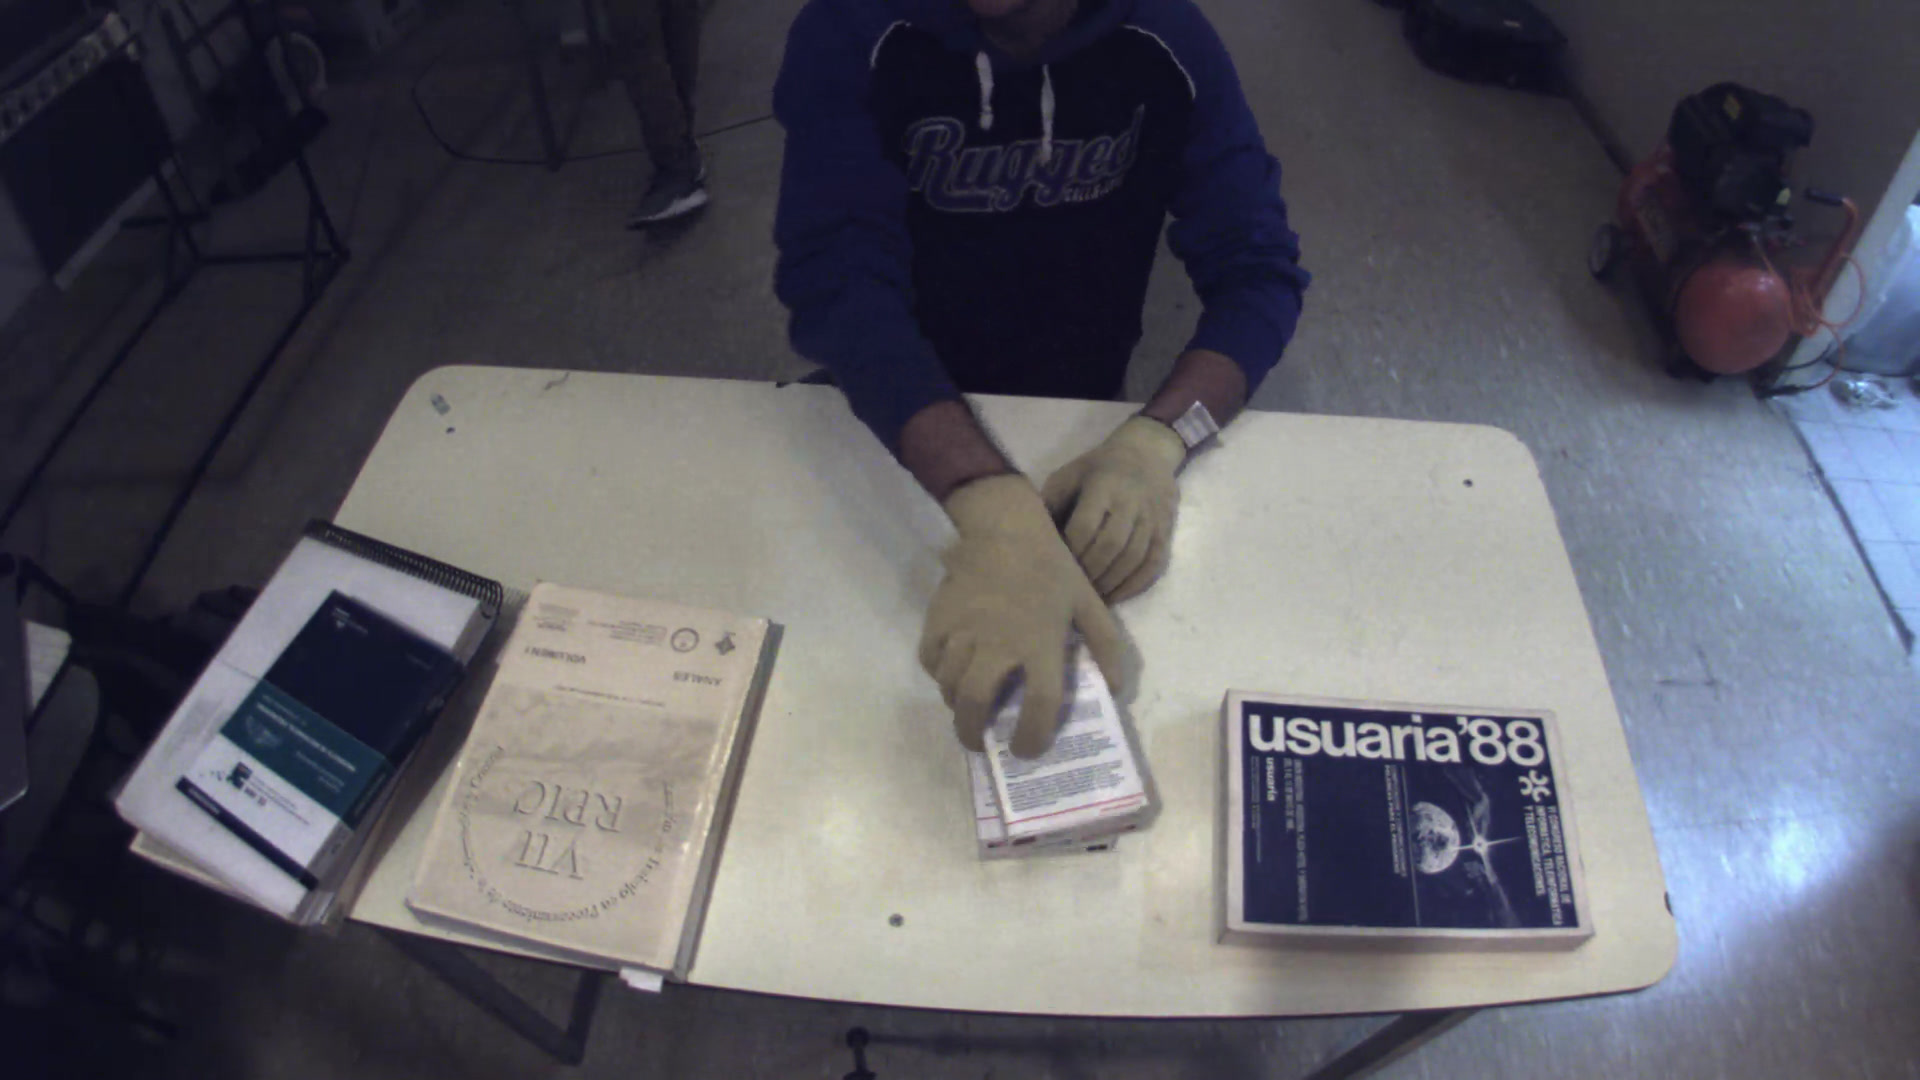hand: (905, 475, 1145, 764), (1051, 396, 1200, 601)
